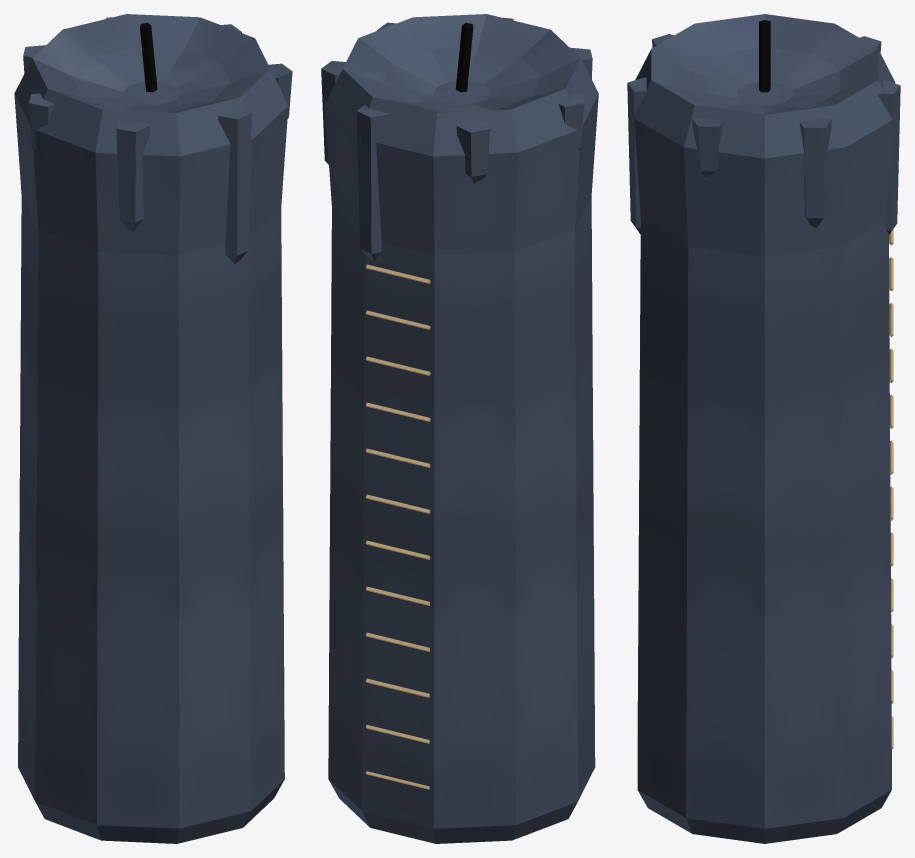
File: Candle_Indigo.obj
The picture shows the model from 3 angles, left to right: view 1: azimuth 30°, elevation 25°; view 2: azimuth 150°, elevation 25°; view 3: azimuth 270°, elevation 25°; orthographic projection.
Parts seen in each view (by area): view 1: Candle_Indigo_Mesh; view 2: Candle_Indigo_Mesh; view 3: Candle_Indigo_Mesh.
Part boxes in pixels (x1,y1,x2,y2): Candle_Indigo_Mesh: [14, 14, 292, 843]; Candle_Indigo_Mesh: [321, 14, 598, 843]; Candle_Indigo_Mesh: [627, 14, 900, 843].
Size of the model in its own units: 0.077 by 0.2341 by 0.0756.
3 materials, 2 textured.
